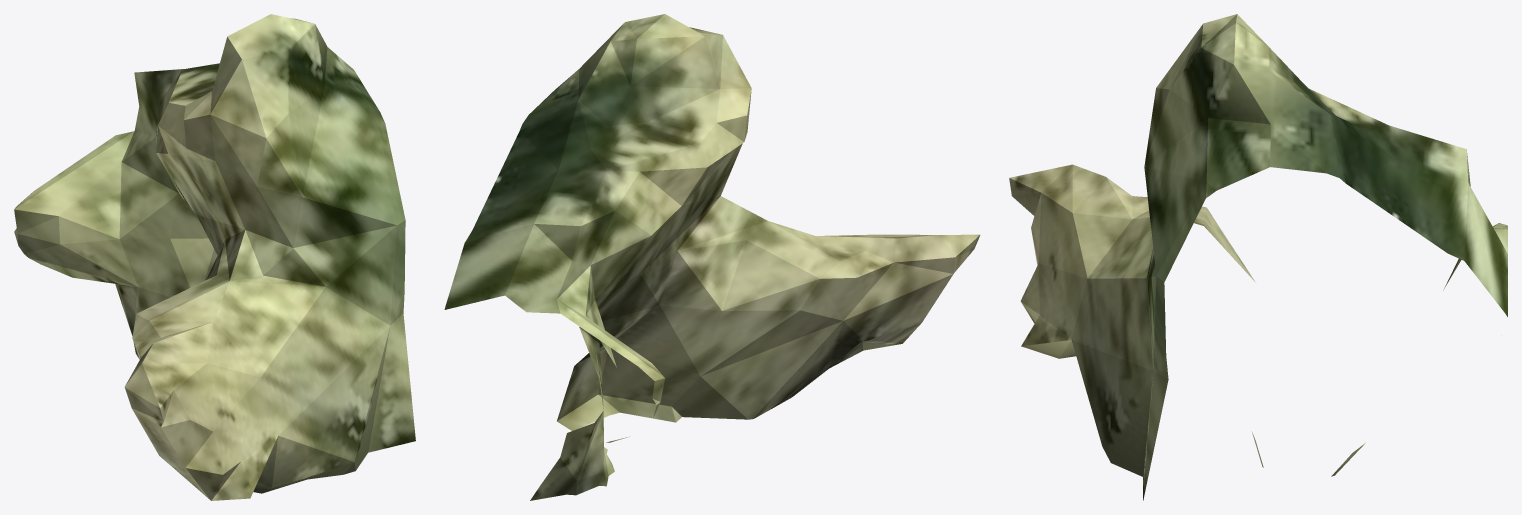
The picture shows the model from 3 angles, left to right: view 1: azimuth 30°, elevation 25°; view 2: azimuth 150°, elevation 25°; view 3: azimuth 270°, elevation 25°; orthographic projection. The views are drawn at different scales.
Bounding box in the file's own units: 1.82 × 2.23 × 2.35.
Materials: 1 (1 with a texture image).
